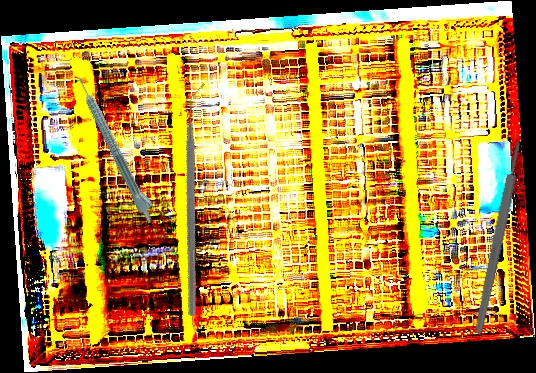Chopper: (88, 82, 308, 318)
Handpiece: (73, 70, 161, 225)
Scalpel Handle: (472, 140, 525, 335)
